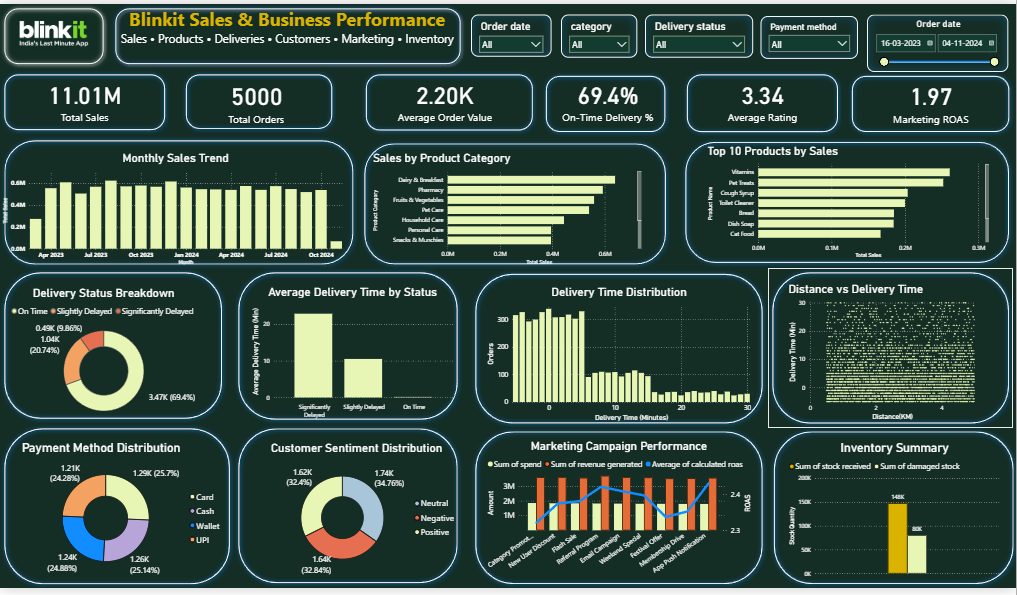

The dashboard page shown, as its layout file describes it:
{"tool":"powerbi","page":{"name":"Page 1","canvas":[2085,1200],"ordinal":0},"visuals":[{"type":"textbox","box":[212.4,0,754.2,132.4],"z":0},{"type":"card","fields":{"Values":["orders_public.Total Sales"]},"box":[0,133.2,347.5,126.7],"z":1000},{"type":"card","fields":{"Values":["customers_public.Total Orders"]},"box":[360.5,133.2,331.3,133.2],"z":2000},{"type":"card","fields":{"Values":["customers_public.Average Order Value"]},"box":[763.3,133.2,298.8,126.7],"z":3000},{"type":"card","fields":{"Values":["customers_public.On-Time Delivery %"]},"box":[1094.6,133.2,302.1,126.7],"z":4000},{"type":"card","fields":{"Values":["customers_public.Average Rating"]},"box":[1399.9,133.2,328.1,126.7],"z":5000},{"type":"card","fields":{"Values":["customers_public.Marketing ROAS"]},"box":[1763.7,133.2,292.3,133.2],"z":6000},{"type":"clusteredColumnChart","title":"Monthly Sales Trend","fields":{"Category":["orders_public.month"],"Y":["Sum(orders_public.order_total)"]},"box":[0,301.2,720.5,239.2],"z":7000},{"type":"donutChart","title":"Delivery Status Breakdown","fields":{"Category":["delivery_public.delivery_status"],"Y":["CountNonNull(delivery_public.delivery_status)"]},"box":[0,578.7,425.2,286.4],"z":8000},{"type":"donutChart","title":"Payment Method Distribution","fields":{"Category":["orders_public.payment_method"],"Y":["CountNonNull(orders_public.payment_method)"]},"box":[39,896.5,425.2,286.4],"z":9000},{"type":"clusteredBarChart","title":"Sales by Product Category","fields":{"Category":["products_public.category"],"Y":["Sum(items_public.item_sales)"]},"box":[761.8,301.2,561.3,238.1],"z":10000},{"type":"clusteredBarChart","title":"Top 10 Products by Sales","fields":{"Category":["products_public.product_name"],"Y":["Sum(items_public.item_sales)"]},"box":[1445.4,285.8,587.9,240.4],"z":11000},{"type":"clusteredColumnChart","title":"Average Delivery Time by Status","fields":{"Category":["delivery_public.delivery_status"],"Y":["Avg(delivery_public.delivery_time_minutes)"]},"box":[509.9,574.9,425.5,282.6],"z":12000},{"type":"donutChart","title":"Customer Sentiment Distribution","fields":{"Category":["feedback_public.sentiment"],"Y":["CountNonNull(feedback_public.sentiment)"]},"box":[552.2,896.5,395.7,286.4],"z":13000},{"type":"clusteredColumnChart","title":"Inventory Summary","fields":{"Y":["Sum(inventory_public.stock_received)","Sum(inventory_public.damaged_stock)"]},"box":[1614.3,896.5,445.9,286.4],"z":14000},{"type":"lineClusteredColumnComboChart","title":"Marketing Campaign Performance","fields":{"Category":["marketing_public.campaign_name"],"Y":["Sum(marketing_public.spend)","Sum(marketing_public.revenue_generated)"],"Y2":["Avg(marketing_public.calculated_roas)"]},"box":[993.9,893.2,552.2,289.1],"z":15000},{"type":"slicer","fields":{"Values":["orders_public.order_date"]},"box":[966.7,21.7,165,86.7],"z":17000},{"type":"slicer","fields":{"Values":["products_public.category"]},"box":[1151.7,21.7,156.7,88.3],"z":18000},{"type":"slicer","fields":{"Values":["delivery_public.delivery_status"]},"box":[1323.3,21.7,221.7,88.3],"z":19000},{"type":"slicer","fields":{"Values":["orders_public.payment_method"]},"box":[1560,24,200,88],"z":20000},{"type":"clusteredColumnChart","title":"Delivery Time Distribution","fields":{"Category":["delivery_public.delivery_time_minutes"],"Y":["CountNonNull(delivery_public.delivery_time_minutes)"]},"box":[993.9,574.9,552.2,285.8],"z":21000},{"type":"slicer","title":"Order date","fields":{"Values":["orders_public.order_date"]},"box":[1778,22,290,118],"z":22000},{"type":"scatterChart","title":"Distance vs Delivery Time","fields":{"X":["delivery_public.distance_km"],"Y":["delivery_public.delivery_time_minutes"]},"box":[1614.3,568.4,395.7,289.4],"z":23000},{"type":"shape","box":[0,860.7,480.7,337.8],"z":24000},{"type":"shape","box":[480.2,861.9,467.9,335.5],"z":25000},{"type":"shape","box":[967.9,867.2,607.4,331.3],"z":26000},{"type":"shape","box":[1578.6,867.2,509.9,331.3],"z":27000},{"type":"shape","box":[0,542.4,464.5,318.3],"z":28000},{"type":"shape","box":[480.2,541.8,467.9,320.1],"z":29000},{"type":"shape","box":[967.9,545.7,607.4,324.8],"z":30000},{"type":"shape","box":[1575.3,542.4,503.4,328.1],"z":31000},{"type":"shape","box":[0,269.6,734.1,272.8],"z":32000},{"type":"shape","box":[740,276.7,636.6,266.3],"z":33000},{"type":"shape","box":[1396.7,272.8,682.1,266.3],"z":34000},{"type":"shape","box":[0,135.4,347.8,132.4],"z":35000},{"type":"shape","box":[373.5,136.4,318.3,129.9],"z":36000},{"type":"shape","box":[740.6,136.4,360.5,133.2],"z":37000},{"type":"shape","box":[1110.8,139.7,263.1,133.2],"z":38000},{"type":"shape","box":[1399.9,136.4,328.1,136.4],"z":39000},{"type":"shape","box":[1737.7,139.7,341,133.2],"z":40000},{"type":"shape","box":[227.8,0,726.5,132.4],"z":40006},{"type":"image","box":[0,0,221.6,117],"z":40008},{"type":"shape","box":[0,0,221.6,132.4],"z":40009}]}

Visuals, with their boxes in screenshot pixels (x1, y1, x2, y2), scaled from the page's 2085x1200 canvas onto the 1017x595 screenshot:
textbox: l=104, t=0, r=471, b=66
card - orders_public.Total Sales: l=0, t=66, r=170, b=129
card - customers_public.Total Orders: l=176, t=66, r=337, b=132
card - customers_public.Average Order Value: l=372, t=66, r=518, b=129
card - customers_public.On-Time Delivery %: l=534, t=66, r=681, b=129
card - customers_public.Average Rating: l=683, t=66, r=843, b=129
card - customers_public.Marketing ROAS: l=860, t=66, r=1003, b=132
"Monthly Sales Trend" clusteredColumnChart: l=0, t=149, r=351, b=268
"Delivery Status Breakdown" donutChart: l=0, t=287, r=207, b=429
"Payment Method Distribution" donutChart: l=19, t=445, r=226, b=587
"Sales by Product Category" clusteredBarChart: l=372, t=149, r=645, b=267
"Top 10 Products by Sales" clusteredBarChart: l=705, t=142, r=992, b=261
"Average Delivery Time by Status" clusteredColumnChart: l=249, t=285, r=456, b=425
"Customer Sentiment Distribution" donutChart: l=269, t=445, r=462, b=587
"Inventory Summary" clusteredColumnChart: l=787, t=445, r=1005, b=587
"Marketing Campaign Performance" lineClusteredColumnComboChart: l=485, t=443, r=754, b=586
slicer - orders_public.order_date: l=472, t=11, r=552, b=54
slicer - products_public.category: l=562, t=11, r=638, b=55
slicer - delivery_public.delivery_status: l=645, t=11, r=754, b=55
slicer - orders_public.payment_method: l=761, t=12, r=858, b=56
"Delivery Time Distribution" clusteredColumnChart: l=485, t=285, r=754, b=427
"Order date" slicer: l=867, t=11, r=1009, b=69
"Distance vs Delivery Time" scatterChart: l=787, t=282, r=980, b=425
shape: l=0, t=427, r=234, b=594
shape: l=234, t=427, r=462, b=594
shape: l=472, t=430, r=768, b=594
shape: l=770, t=430, r=1016, b=594
shape: l=0, t=269, r=227, b=427
shape: l=234, t=269, r=462, b=427
shape: l=472, t=271, r=768, b=432
shape: l=768, t=269, r=1014, b=432
shape: l=0, t=134, r=358, b=269
shape: l=361, t=137, r=671, b=269
shape: l=681, t=135, r=1014, b=267
shape: l=0, t=67, r=170, b=133
shape: l=182, t=68, r=337, b=132
shape: l=361, t=68, r=537, b=134
shape: l=542, t=69, r=670, b=135
shape: l=683, t=68, r=843, b=135
shape: l=848, t=69, r=1014, b=135
shape: l=111, t=0, r=465, b=66
image: l=0, t=0, r=108, b=58
shape: l=0, t=0, r=108, b=66
